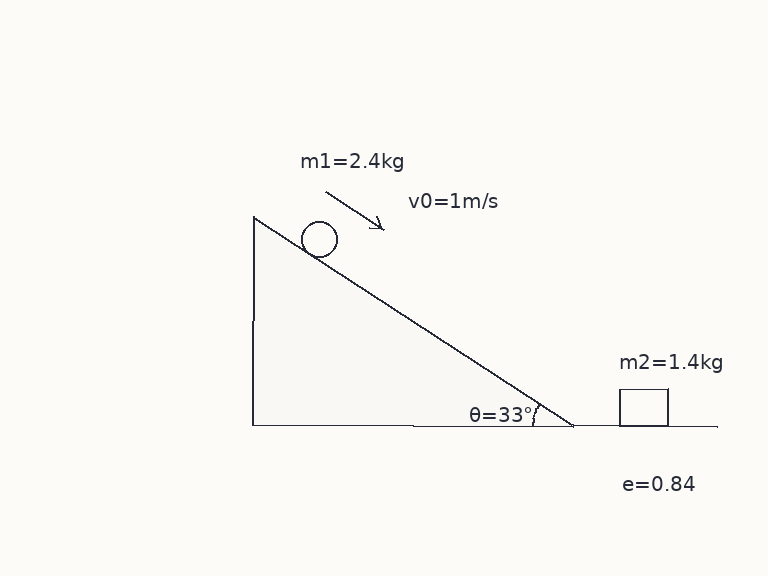ball: (299, 219, 339, 259)
block: (618, 387, 670, 427)
ramp: (251, 215, 575, 427)
